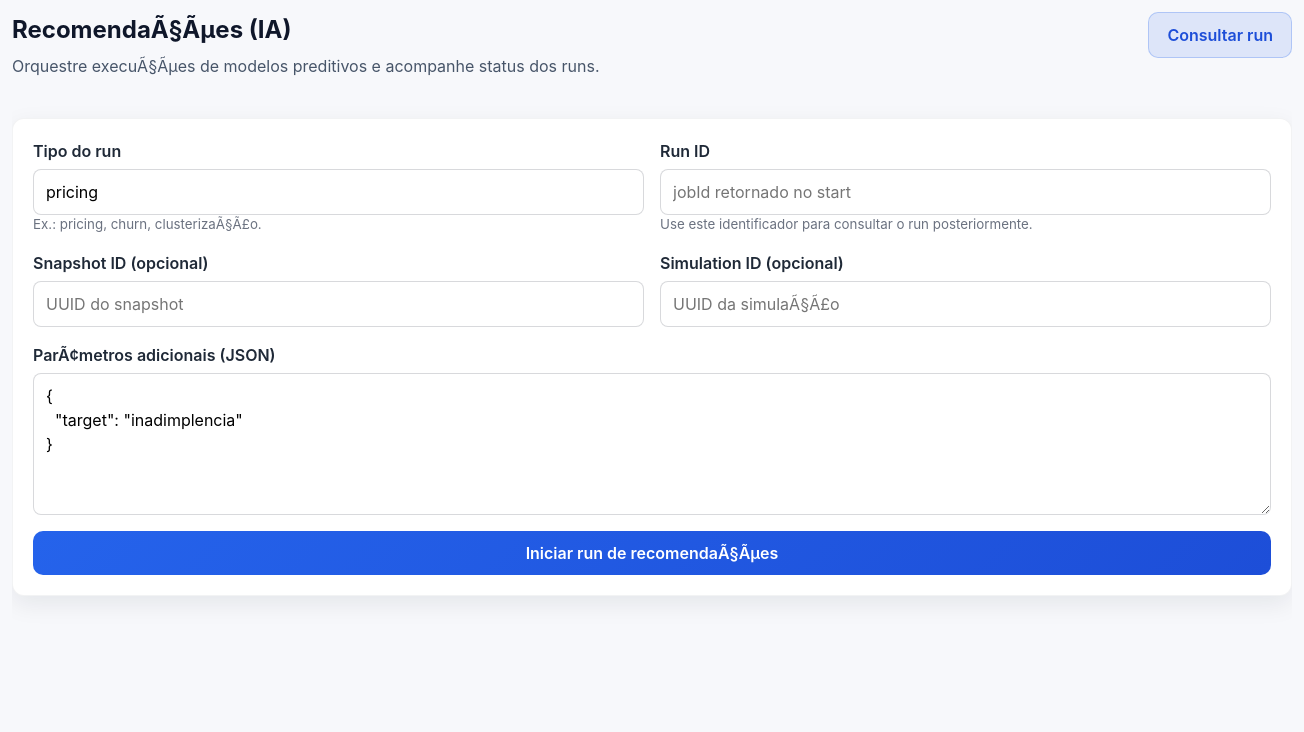
Test: RecommendationsPage › should display an error if fetching a run fails
This screenshot has width=1304, height=732.
Type "job-123" into the field labelled "Run ID".
click(966, 192); type("job-123")  # box [660, 169, 1271, 215]
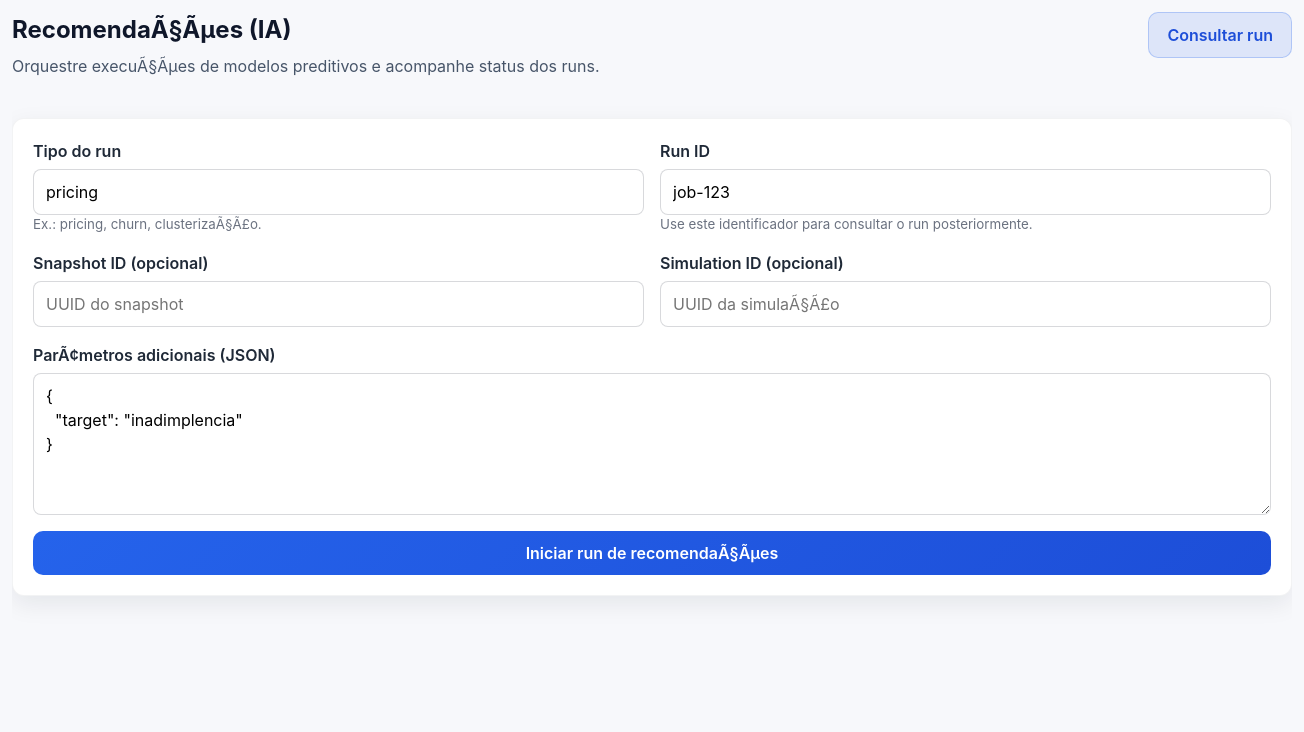
Click the button "Consultar run".
click(1220, 35)  # box [1148, 12, 1292, 58]
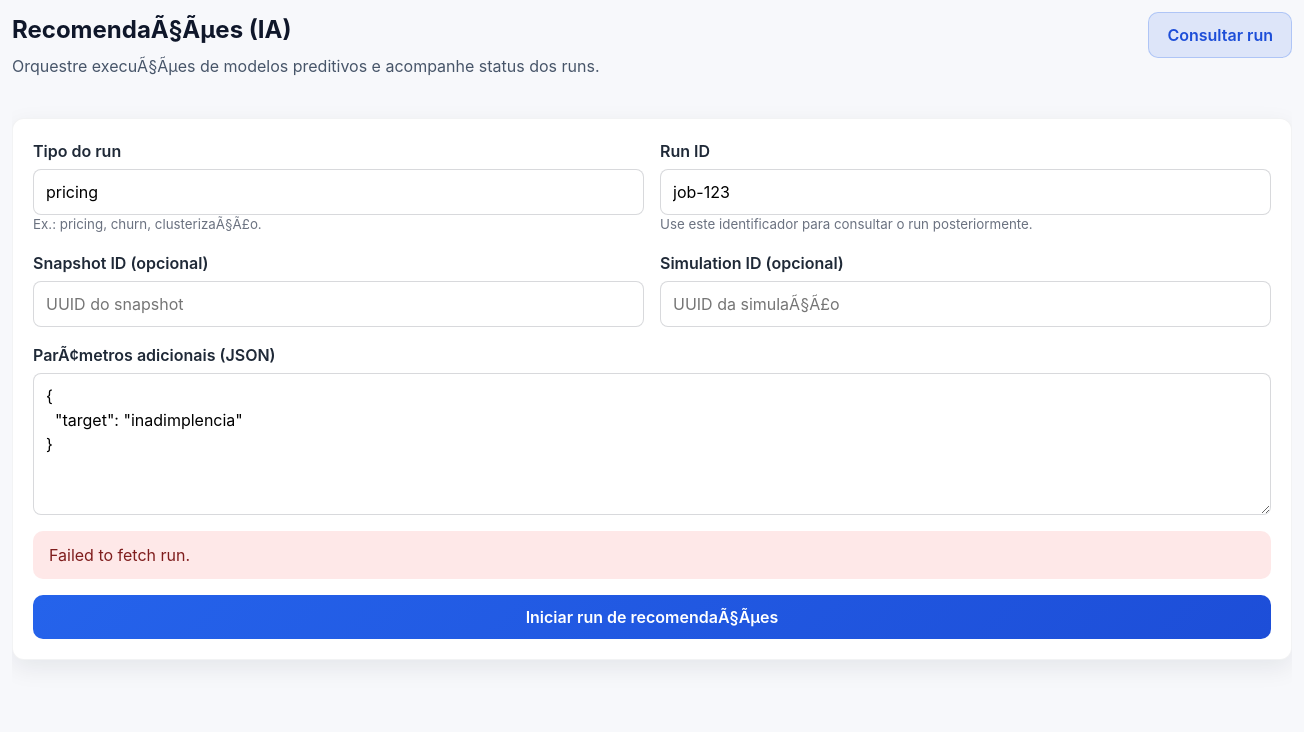
Check: the text "Failed to fetch run." is shown, box [33, 531, 1271, 579]
